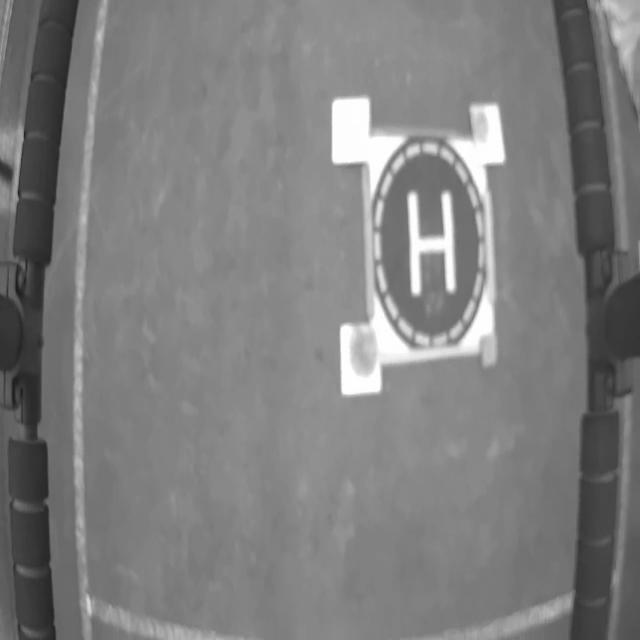Helipad: (408, 189, 456, 296)
